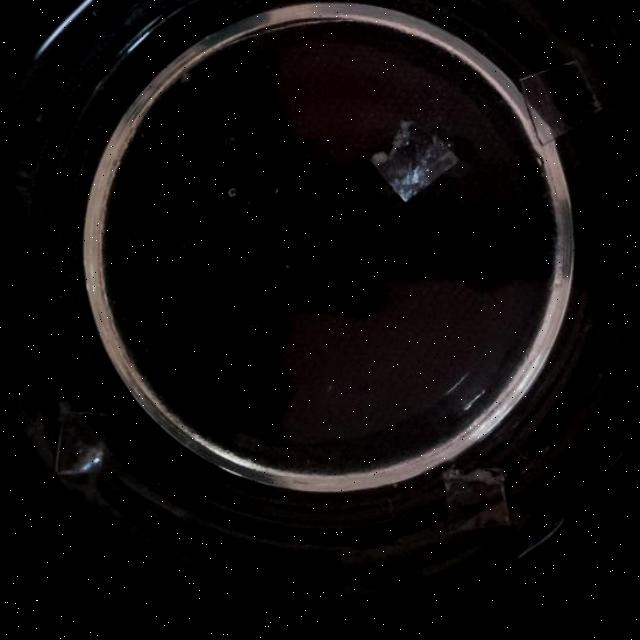Film: (368, 119, 460, 201), (518, 60, 600, 144), (214, 134, 286, 216), (442, 466, 510, 534), (48, 404, 110, 478)
